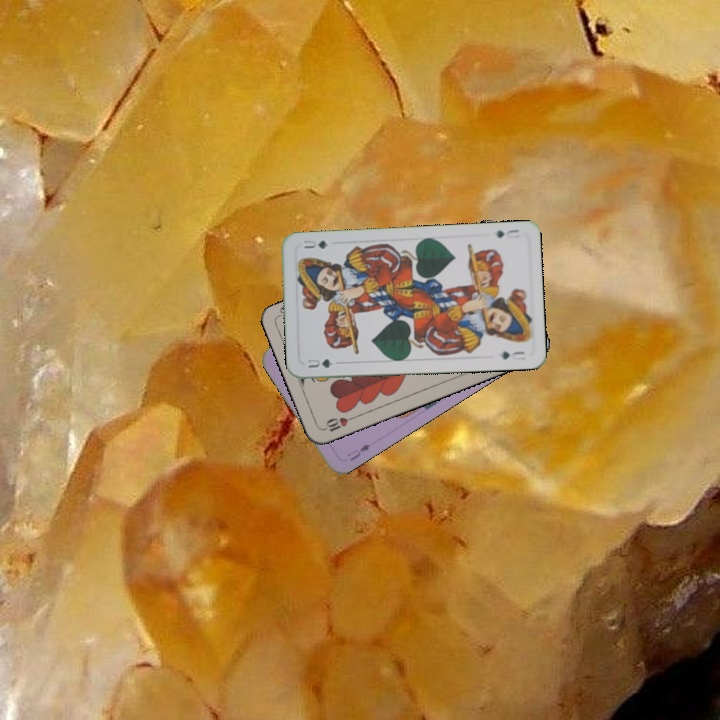EU: (343, 440, 373, 464)
GU: (303, 354, 336, 371), (492, 225, 521, 240)
H10: (320, 412, 359, 435)
